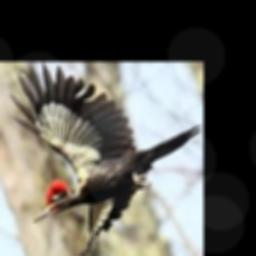Woodpecker: (10, 62, 202, 256)
